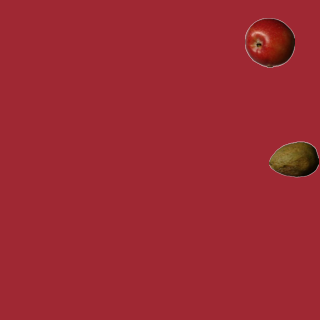Apple Braeburn: (244, 17, 294, 67)
Papaya: (268, 134, 318, 184)
